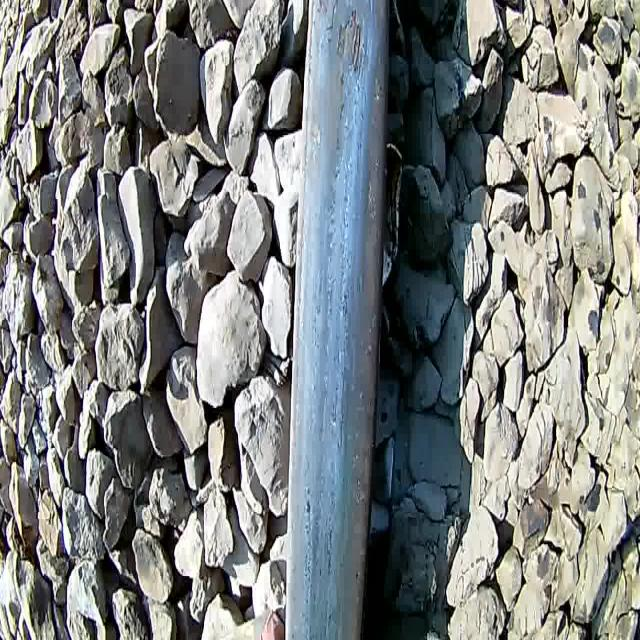Squats: (320, 1, 378, 87)
